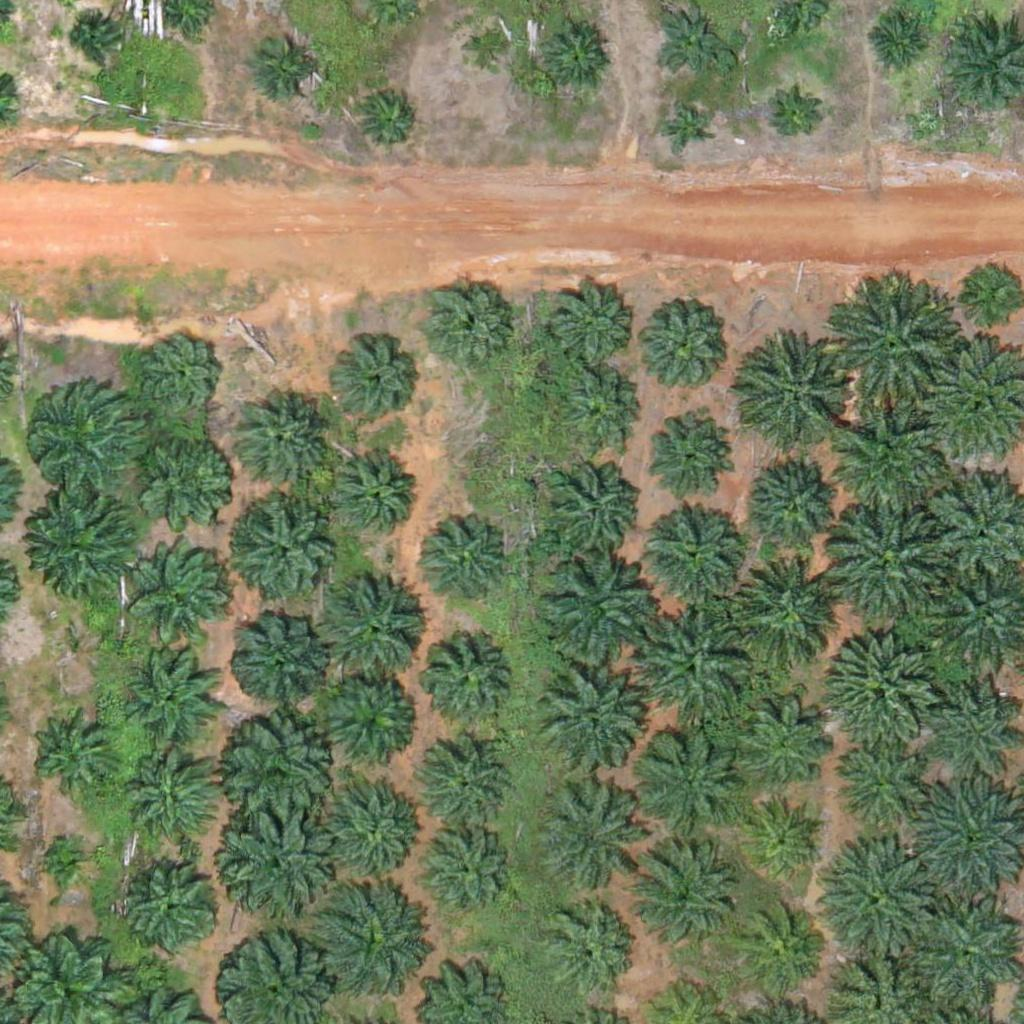Kelapa_Sawit: (831, 289, 956, 415), (25, 377, 150, 503), (727, 557, 840, 671), (834, 407, 947, 520), (825, 508, 938, 621), (822, 628, 935, 741), (720, 688, 833, 801), (319, 882, 432, 995), (217, 809, 330, 922), (830, 846, 942, 960), (632, 722, 744, 836), (629, 838, 741, 952), (538, 554, 650, 668), (637, 613, 749, 726), (313, 570, 425, 683), (230, 498, 342, 611), (223, 717, 335, 830), (749, 450, 849, 551), (633, 294, 733, 395), (533, 786, 633, 887), (409, 514, 509, 615), (414, 735, 514, 836), (415, 824, 515, 925), (324, 776, 424, 877), (316, 668, 416, 769), (232, 390, 332, 491), (124, 857, 224, 958), (124, 753, 224, 854), (119, 647, 219, 748), (134, 544, 234, 645), (37, 495, 137, 596), (744, 348, 844, 448), (646, 504, 746, 604), (537, 673, 637, 773), (542, 457, 642, 557), (418, 629, 518, 729), (228, 610, 328, 710), (138, 422, 238, 522), (739, 796, 827, 884), (828, 742, 916, 830), (731, 908, 819, 996), (640, 410, 728, 498), (542, 904, 630, 992), (422, 279, 510, 367), (325, 450, 413, 538), (560, 365, 647, 453), (548, 282, 635, 370), (335, 339, 422, 427), (139, 335, 226, 423), (29, 708, 116, 796), (249, 29, 324, 105), (538, 19, 613, 94), (654, 1, 729, 76), (359, 89, 422, 152), (867, 16, 930, 79), (768, 93, 818, 144), (661, 102, 711, 153), (69, 16, 119, 66), (42, 833, 92, 883), (463, 24, 513, 74)
